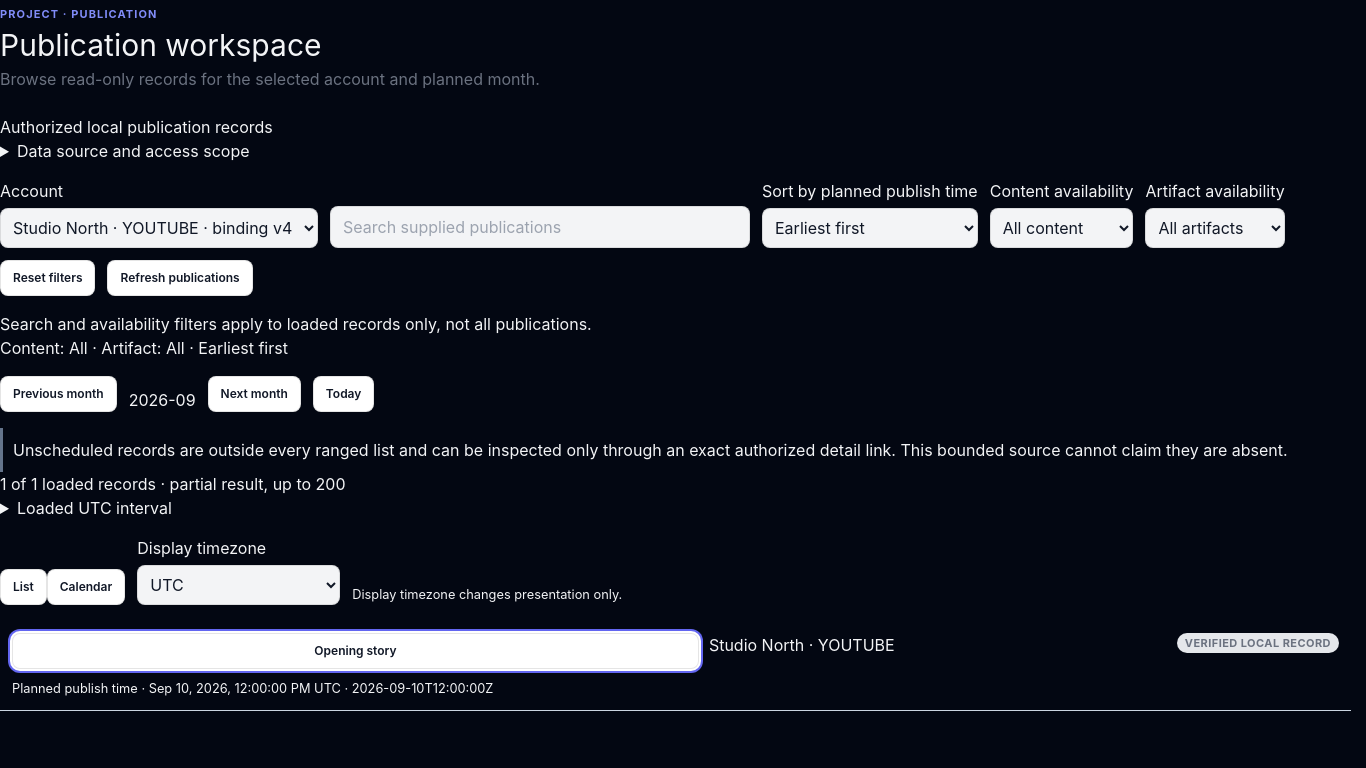
Test case: authorized Publication workspace › returns focus to the launching row and rejects a retained dismissal from an older same-ID detail
Click the button "Opening story". click: (355, 650)
box: x1=12 y1=632 x2=699 y2=668
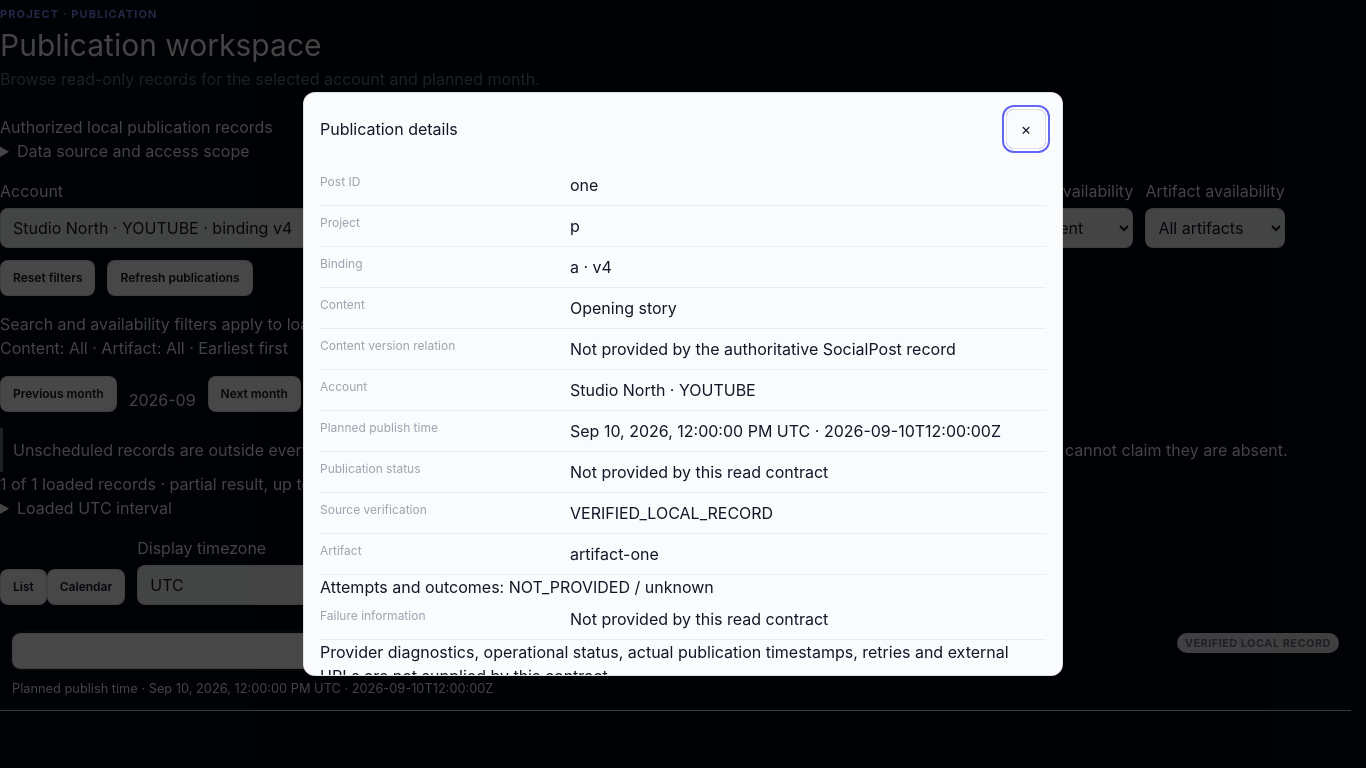
Expected: the text "Post ID" is shown, x1=320 y1=174 x2=360 y2=189
Click the button named "Close publication details". click: (1026, 129)
box: x1=1006 y1=109 x2=1046 y2=149
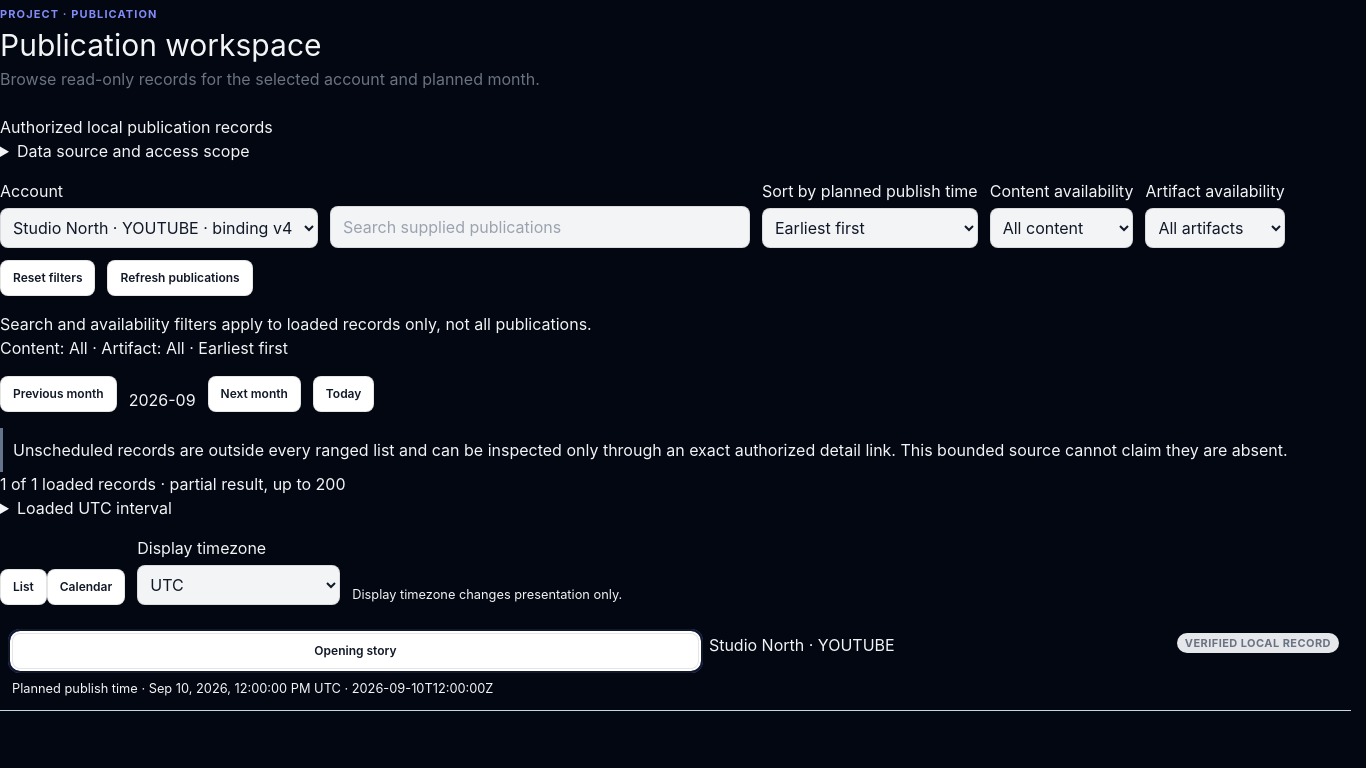
Click the button "Opening story". click: (355, 650)
box: x1=12 y1=632 x2=699 y2=668
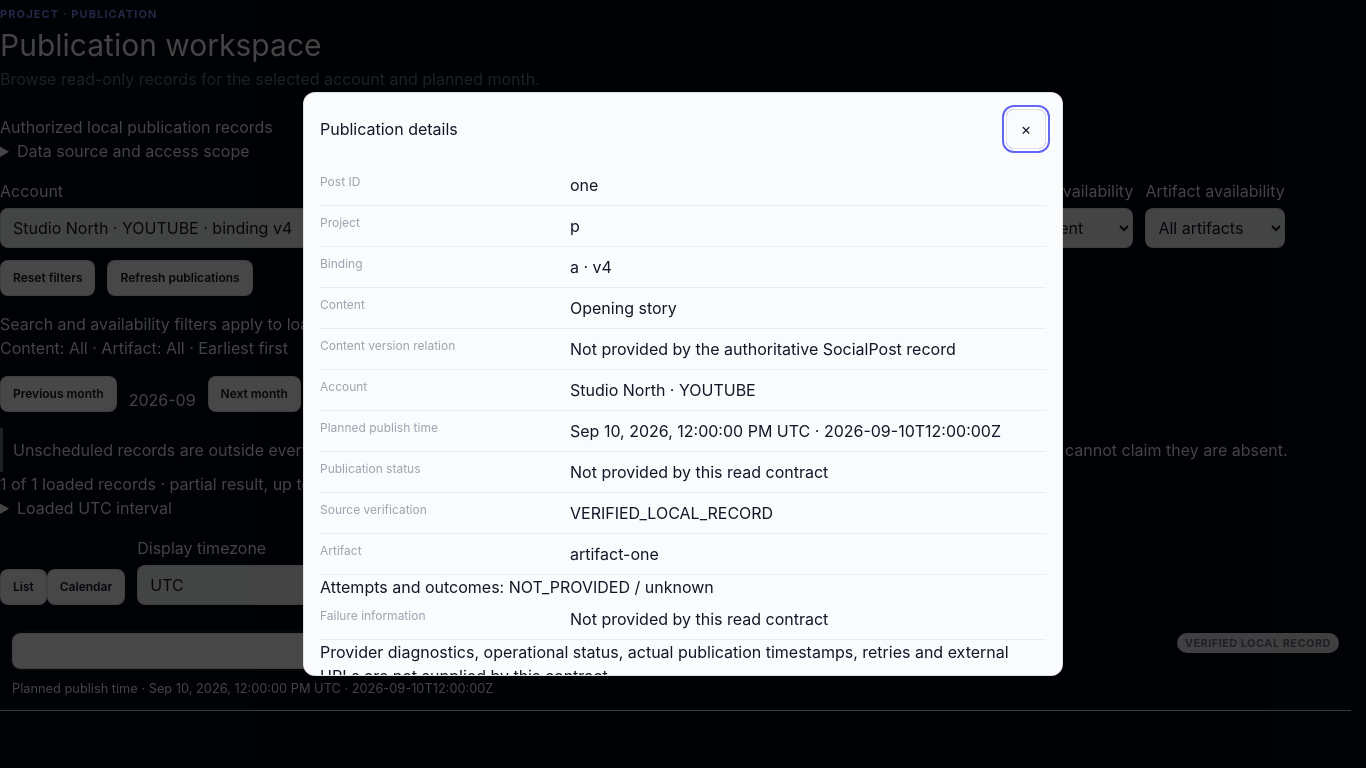
Expected: the text "Post ID" is shown, x1=320 y1=174 x2=360 y2=189
Expected: the dialog is shown, x1=303 y1=92 x2=1063 y2=676
